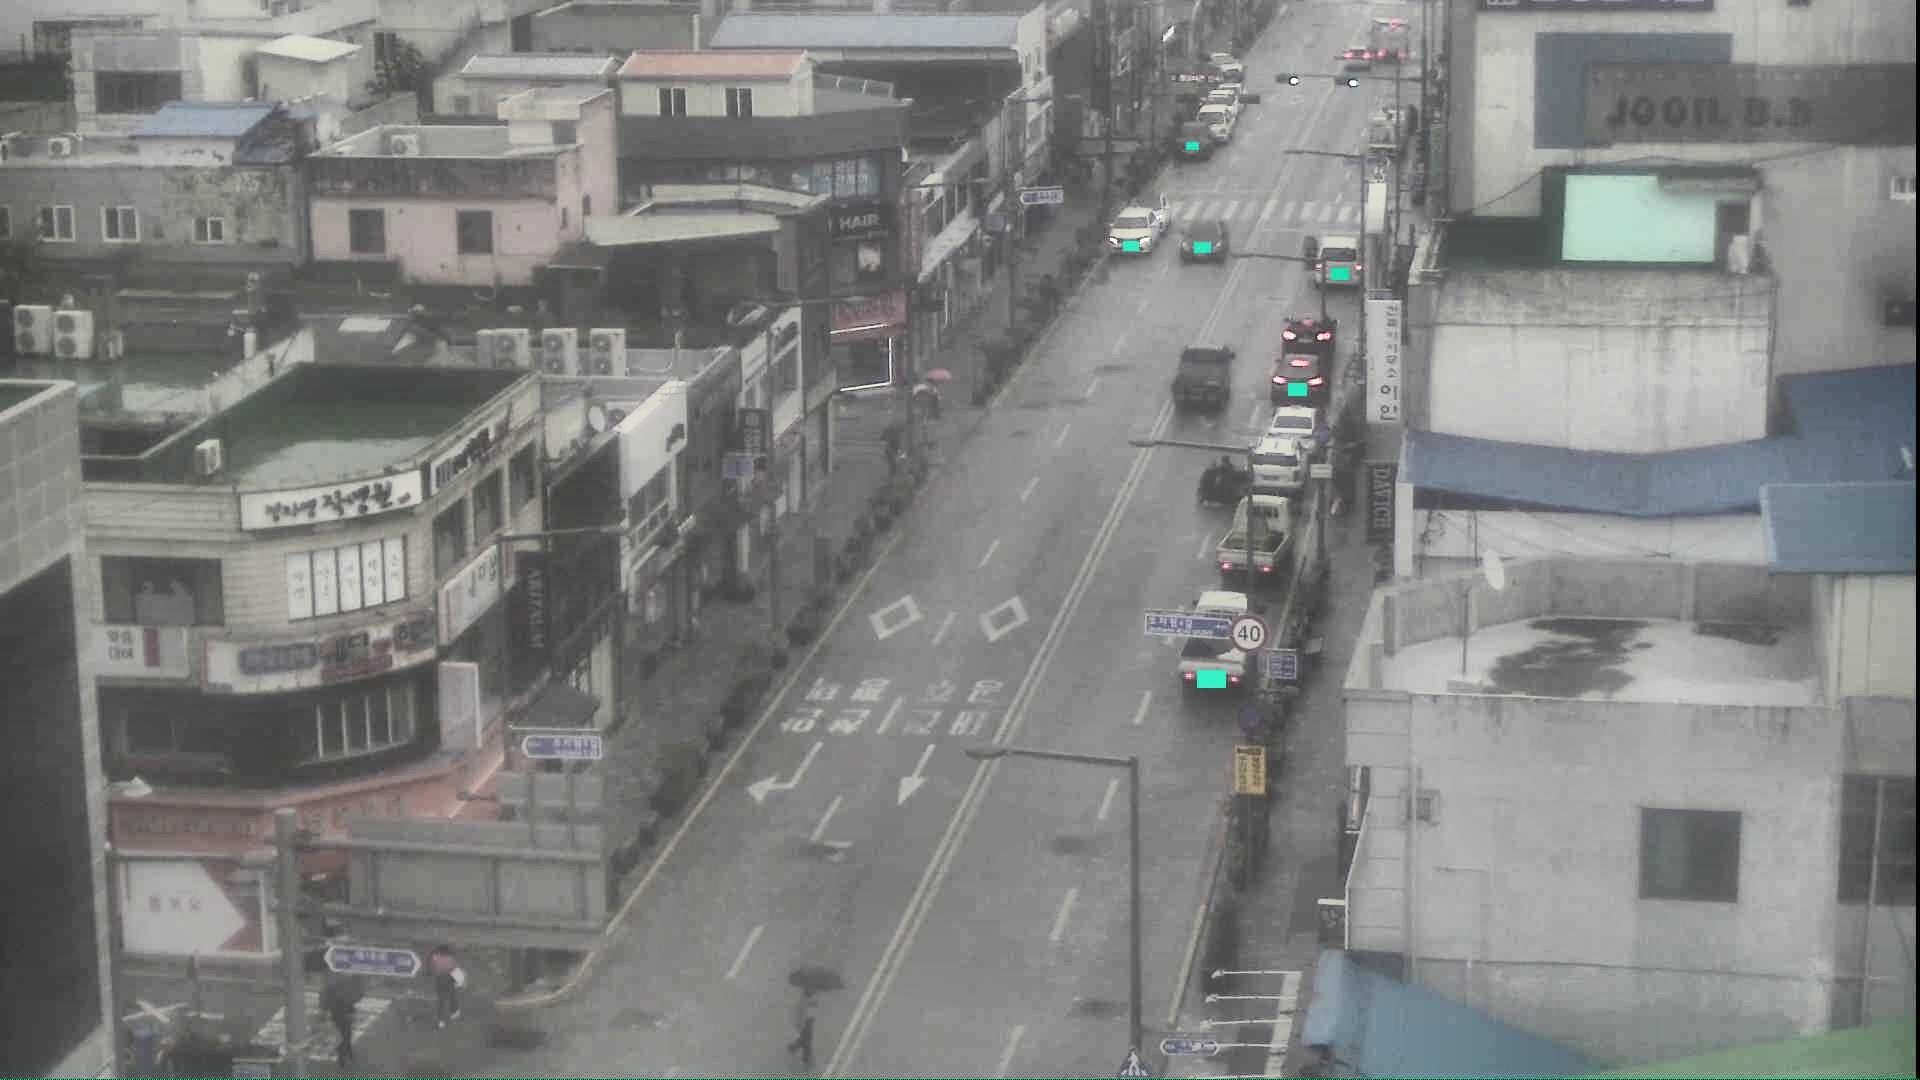um_jaywalk: (785, 968, 849, 1065), (315, 968, 363, 1068), (421, 940, 468, 1031)
um_sidewalk: (927, 368, 957, 422), (882, 422, 905, 477)
